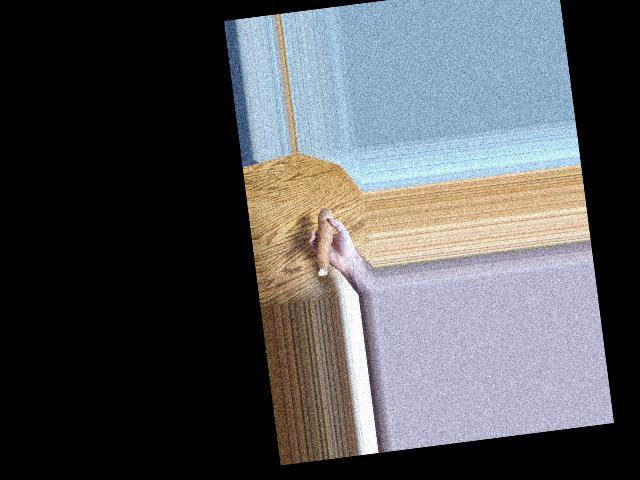sweet_potato: (307, 204, 338, 282)
